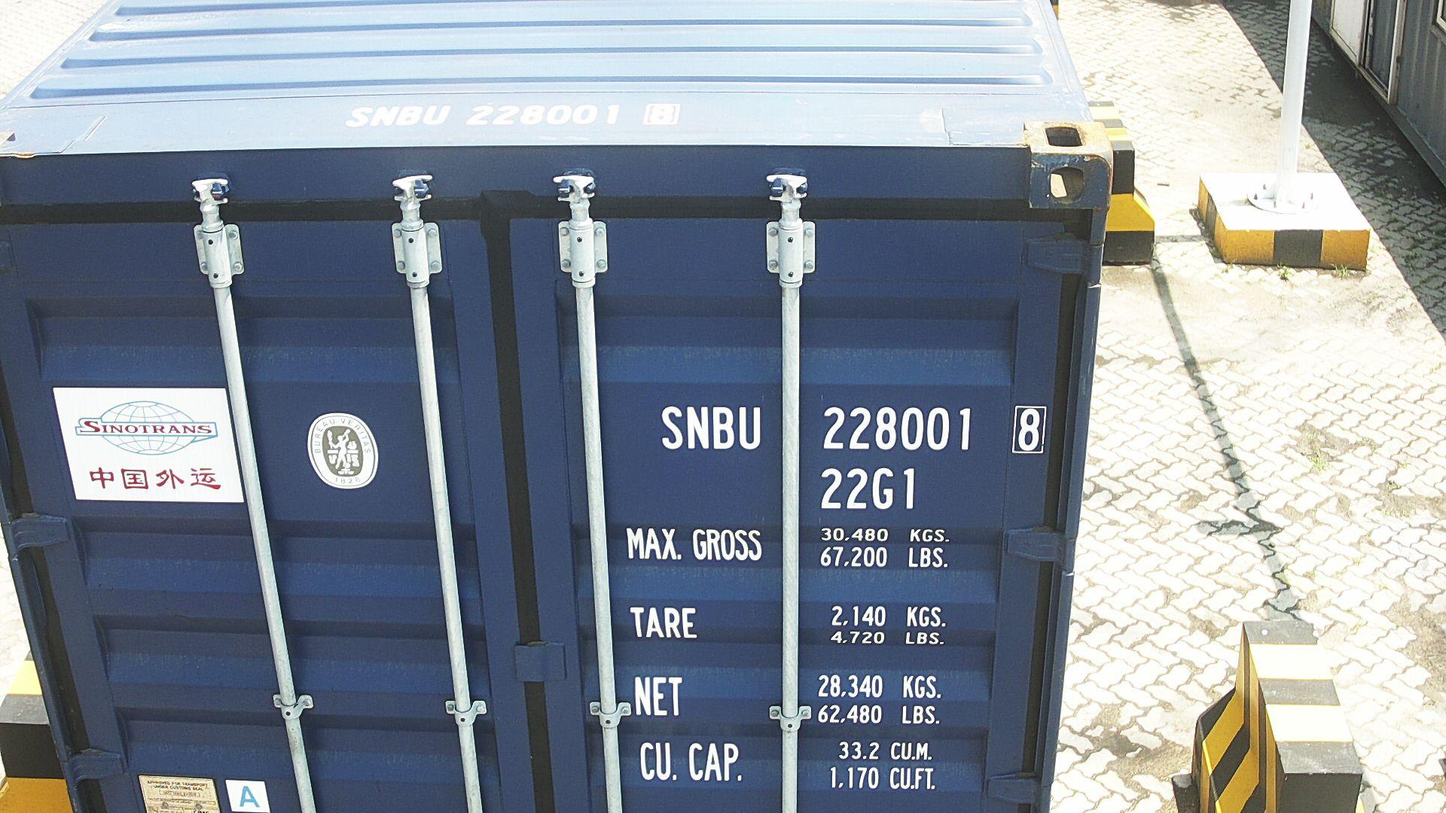container-numbers: (656, 400, 1055, 458), (337, 98, 688, 129), (817, 464, 919, 513)
